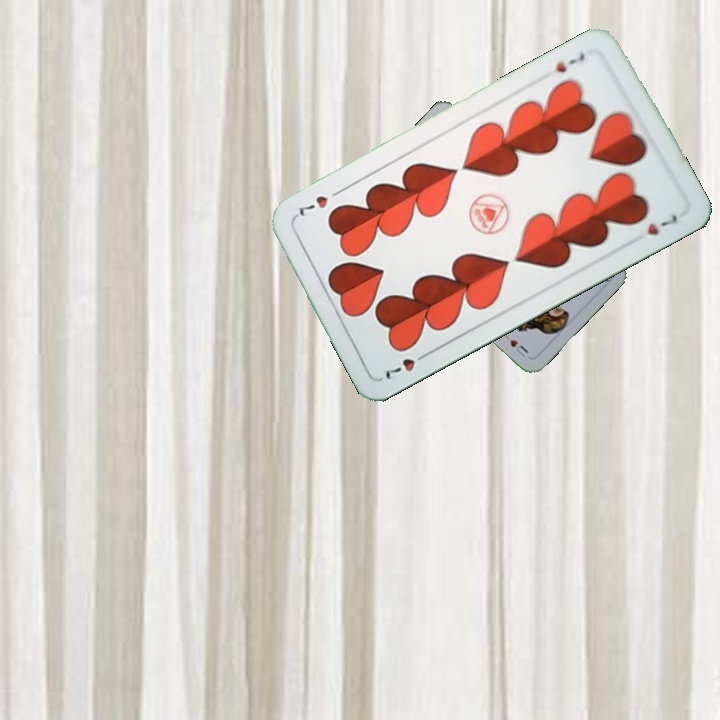H7: (381, 347, 433, 382), (551, 49, 588, 75)
